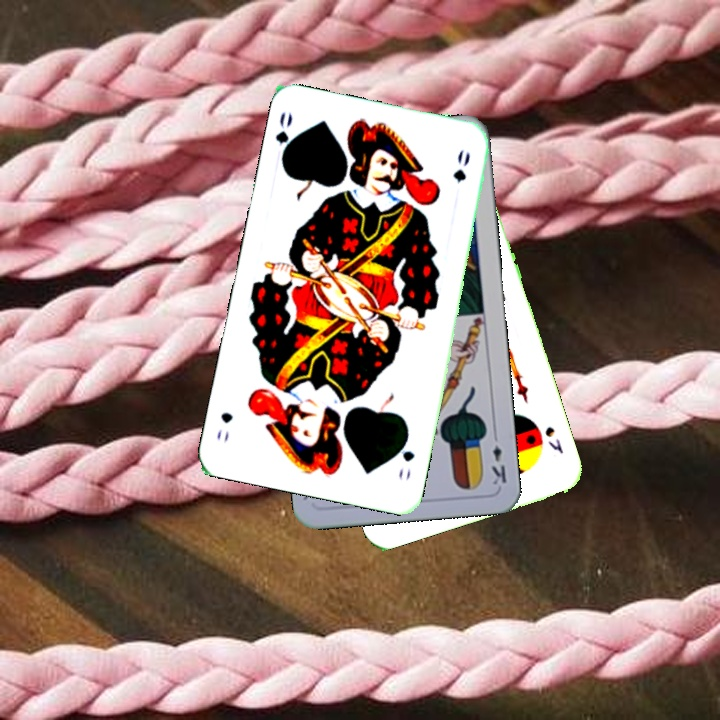EK: (487, 428, 509, 488)
GO: (271, 107, 299, 167), (394, 429, 417, 483)
SK: (540, 422, 566, 457)
